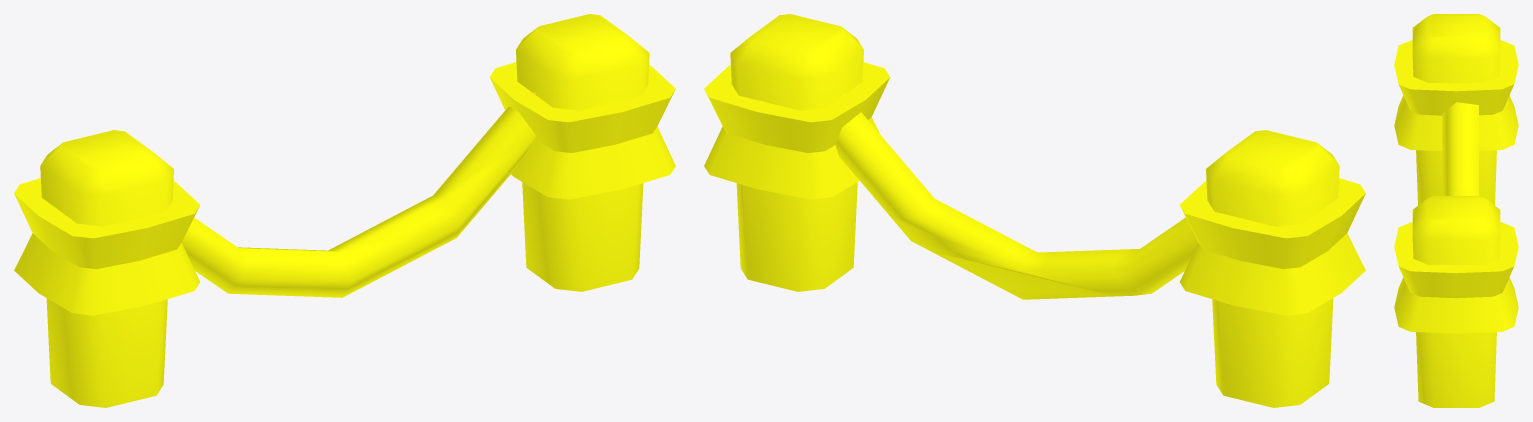
File: _fbx_all_fence.glb
3 views of the same model, side by side, from view 1: azimuth 30°, elevation 25°; view 2: azimuth 150°, elevation 25°; view 3: azimuth 270°, elevation 25° (orthographic). The views are drawn at different scales.
Parts seen in each view (by area): view 1: fence; view 2: fence; view 3: fence.
Boxes of the visible parts, <box> form: fence: <box>14,14,675,407</box>; fence: <box>704,14,1365,407</box>; fence: <box>1394,14,1518,407</box>.
Size of the model in its own units: 1.1 by 0.4 by 0.2458.
Materials: 1 (1 with a texture image).
